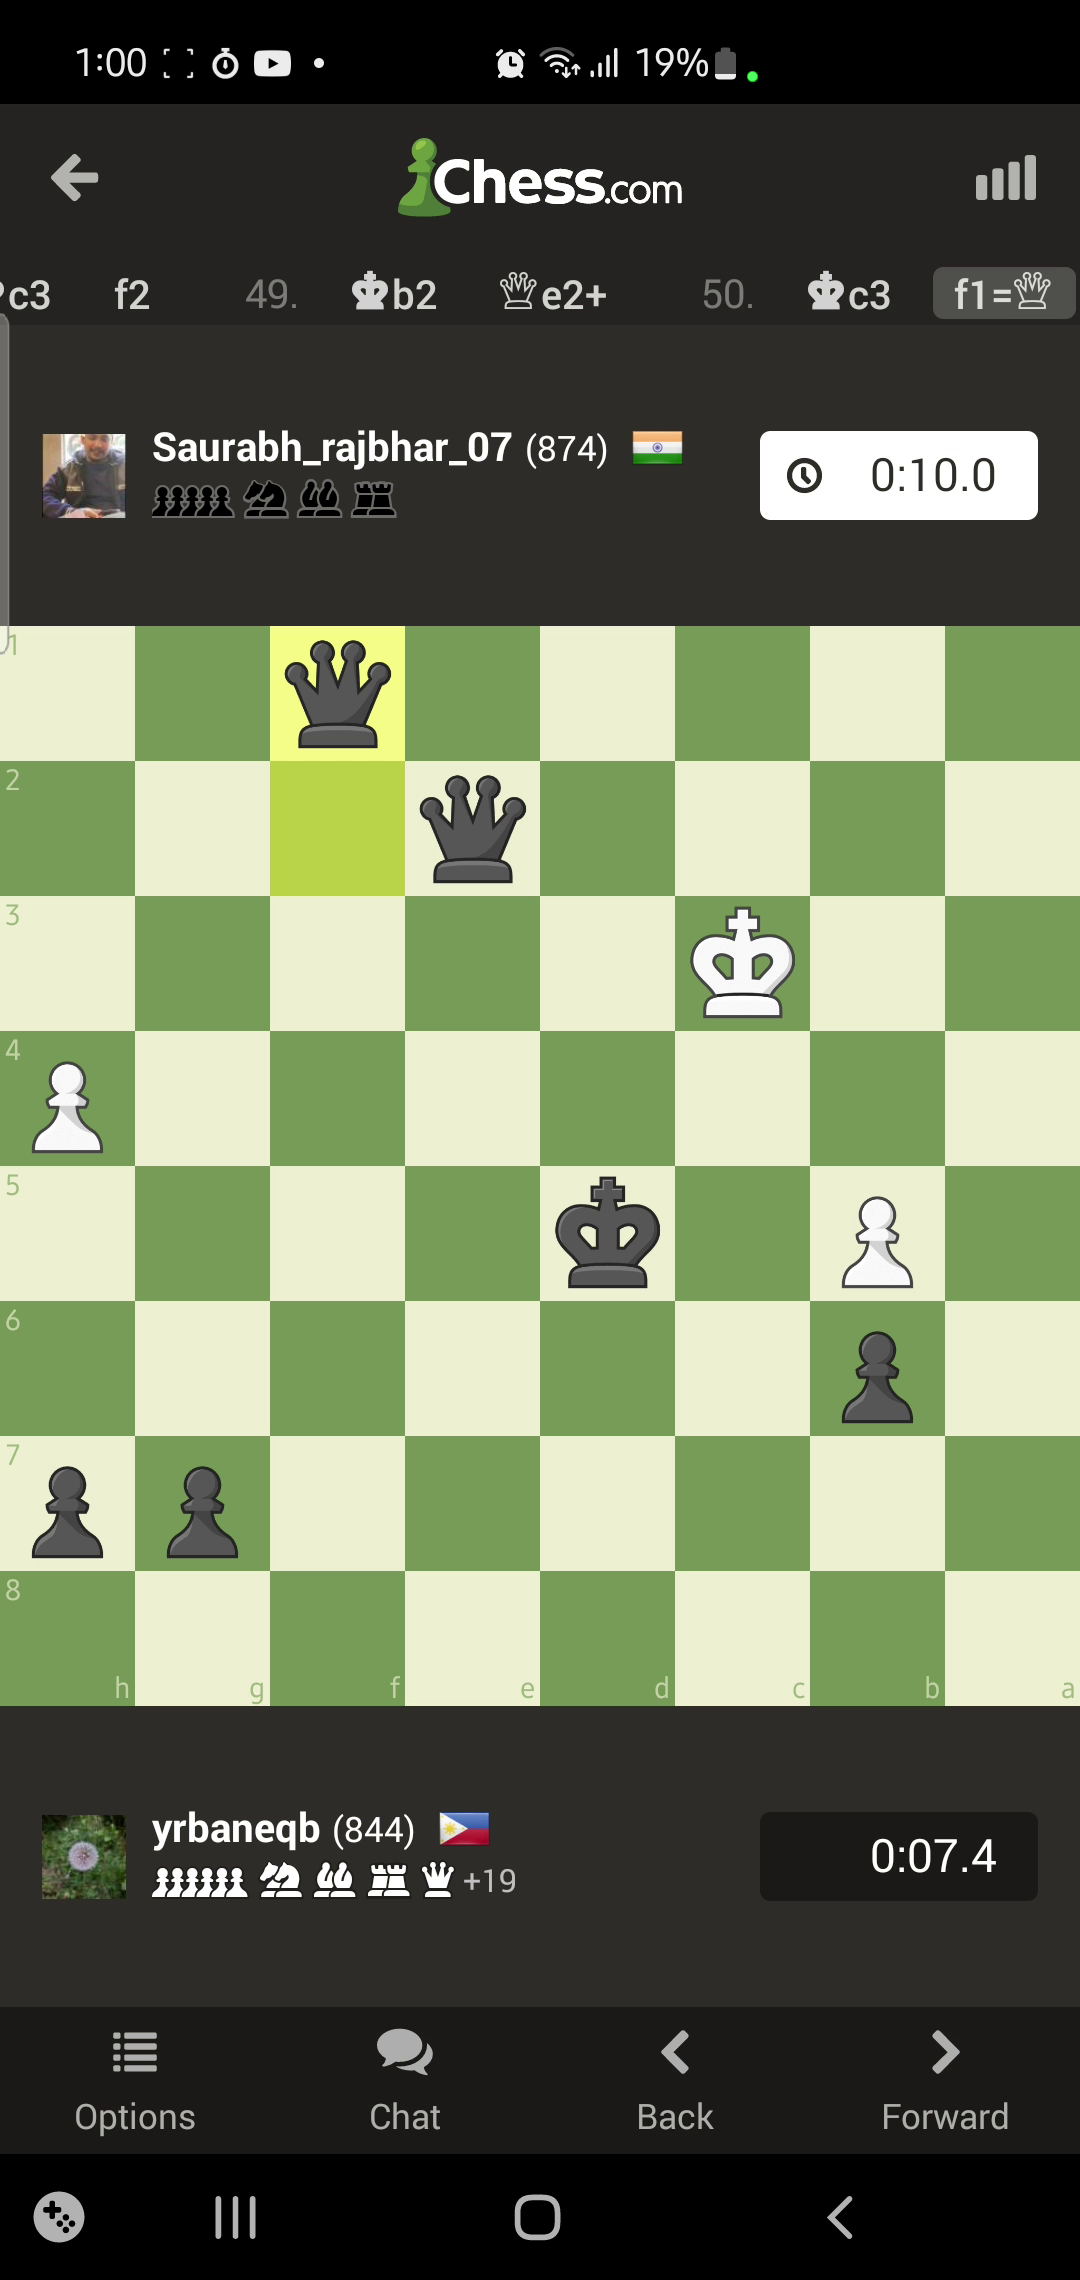king: (552, 1178, 661, 1290), (692, 907, 794, 1018)
